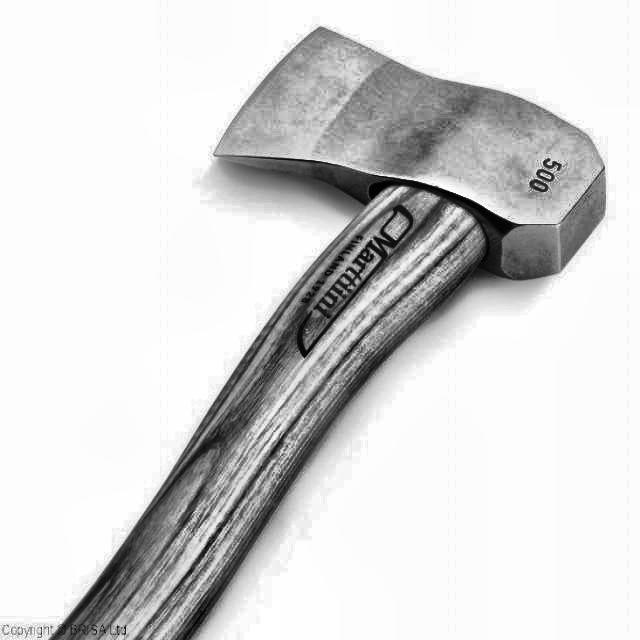kapak: (41, 14, 627, 639)
